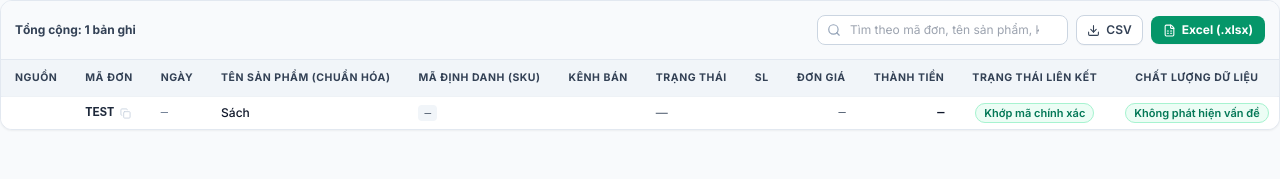
Test: Integrated table feedback › reports clipboard rejection instead of displaying a false success
This screenshot has width=1280, height=179.
Click the button titled "Sao chép mã đơn" at (126, 113), box [120, 108, 131, 118]
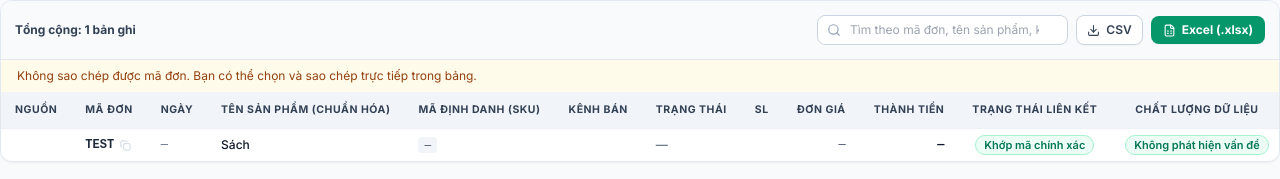
Now the text "Không sao chép được mã đơn" is shown, box [17, 68, 477, 83]
